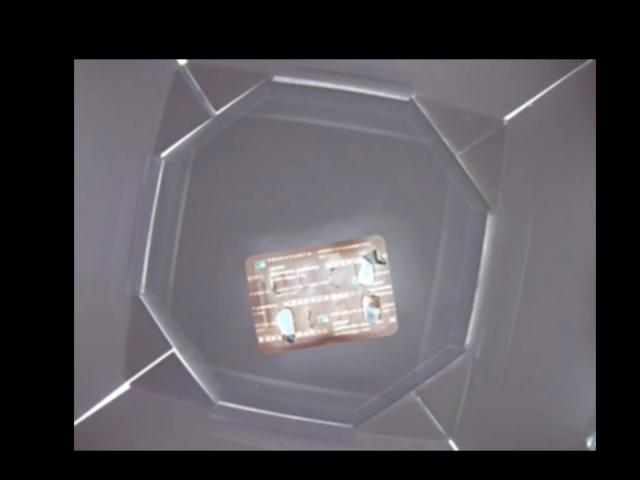Medicine: (242, 232, 400, 354)
